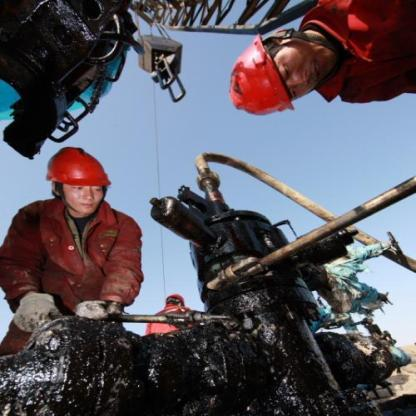helmet: (220, 23, 304, 125), (27, 141, 118, 191)
